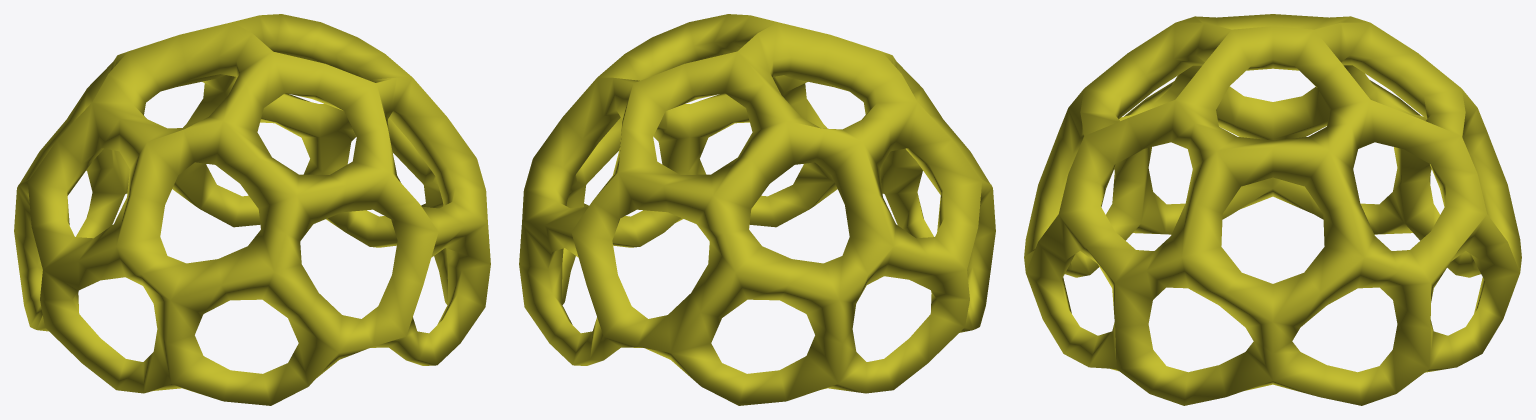
Rendered from Brain Coral.fbx.
The picture shows the model from 3 angles, left to right: view 1: azimuth 30°, elevation 25°; view 2: azimuth 150°, elevation 25°; view 3: azimuth 270°, elevation 25°; orthographic projection. The views are drawn at different scales.
Visible parts, largest first — view 1: Hedra001; view 2: Hedra001; view 3: Hedra001.
Part boxes in pixels (x1,y1,x2,y2): Hedra001: (14,14,490,405); Hedra001: (519,14,995,405); Hedra001: (1024,14,1521,405).
Bounding box in the file's own units: 24.09 × 15.41 × 23.74.
